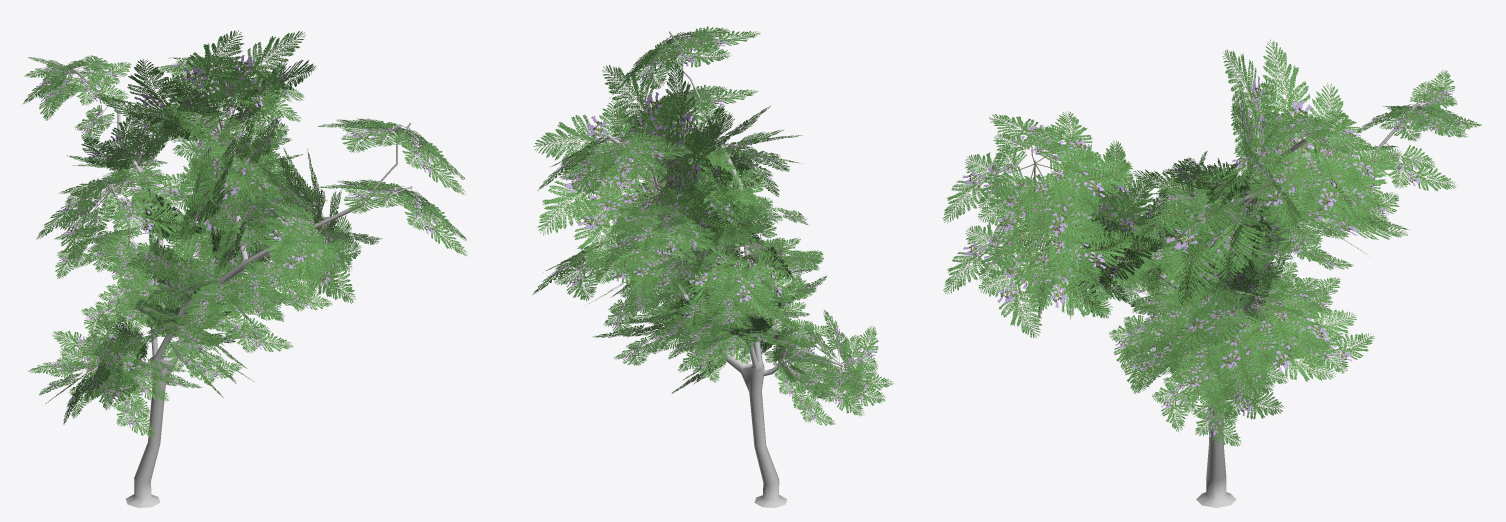
File: GUALANDAY_LISTO.fbx
The picture shows the model from 3 angles, left to right: view 1: azimuth 30°, elevation 25°; view 2: azimuth 150°, elevation 25°; view 3: azimuth 270°, elevation 25°; orthographic projection. The views are drawn at different scales.
Visible parts, largest first — view 1: gualanday_LOD0; view 2: gualanday_LOD0; view 3: gualanday_LOD0.
Part boxes in pixels (x1=…): gualanday_LOD0: x1=23, y1=30, x2=467, y2=507; gualanday_LOD0: x1=532, y1=26, x2=893, y2=507; gualanday_LOD0: x1=942, y1=39, x2=1481, y2=507.
Size of what is drawn, in the model's own units: 14.3 by 16.68 by 16.16.
